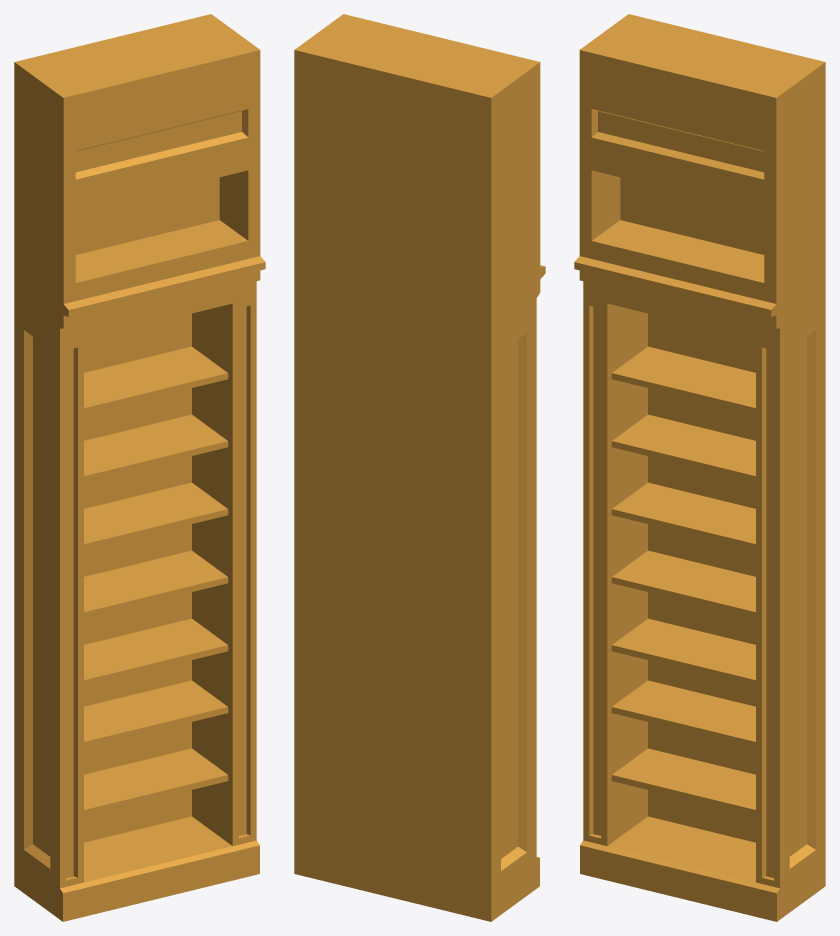
File: Sm_Bookcase_Tall_Modular_1m.fbx
The picture shows the model from 3 angles, left to right: view 1: azimuth 30°, elevation 25°; view 2: azimuth 150°, elevation 25°; view 3: azimuth 330°, elevation 25°; orthographic projection.
Parts seen in each view (by area): view 1: bookcase-tall-modular-1m; view 2: bookcase-tall-modular-1m; view 3: bookcase-tall-modular-1m.
Boxes of the visible parts, x1,y1,x2,y2 form: bookcase-tall-modular-1m: (14, 14, 265, 921); bookcase-tall-modular-1m: (294, 14, 545, 921); bookcase-tall-modular-1m: (574, 14, 825, 921).
Bounding box in the file's own units: 1 × 4 × 0.4778.
